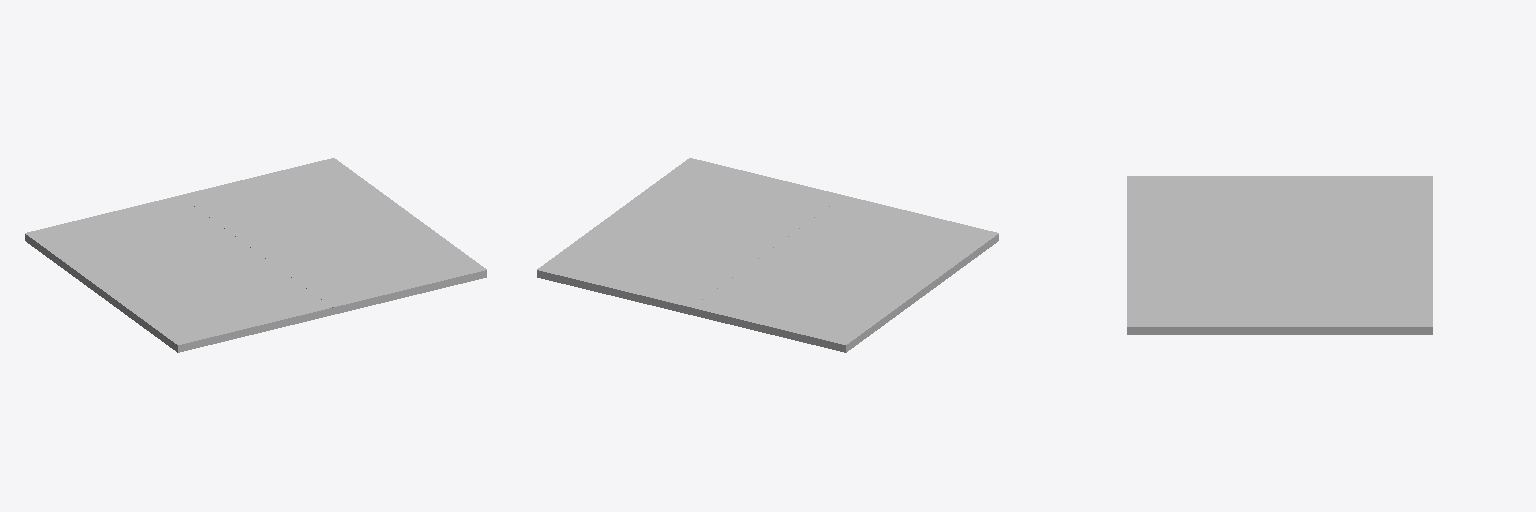
Rendered from Decke_geschlossen.obj.
The picture shows the model from 3 angles: view 1: azimuth 30°, elevation 25°; view 2: azimuth 150°, elevation 25°; view 3: azimuth 270°, elevation 25°; orthographic projection.
Parts seen in each view (by area): view 1: Mesh62 Component_2139 G_9_V3_Decke_geschlossen_Beleuchtung_dwg1 , Mesh26 Component_2113 G_9_V3_Decke_geschlossen_Beleuchtung_dwg1 , Mesh46 Component_2136 G_9_V3_Decke_geschlossen_Beleuchtung_dwg1 , Mesh10 Component_2110 G_9_V3_Decke_geschlossen_Beleuchtung_dwg1 ; view 2: Mesh62 Component_2139 G_9_V3_Decke_geschlossen_Beleuchtung_dwg1 , Mesh26 Component_2113 G_9_V3_Decke_geschlossen_Beleuchtung_dwg1 , Mesh46 Component_2136 G_9_V3_Decke_geschlossen_Beleuchtung_dwg1 , Mesh10 Component_2110 G_9_V3_Decke_geschlossen_Beleuchtung_dwg1 ; view 3: Mesh26 Component_2113 G_9_V3_Decke_geschlossen_Beleuchtung_dwg1 , Mesh62 Component_2139 G_9_V3_Decke_geschlossen_Beleuchtung_dwg1 , Mesh10 Component_2110 G_9_V3_Decke_geschlossen_Beleuchtung_dwg1 .
Part boxes in pixels (bbox=[...]): Mesh62 Component_2139 G_9_V3_Decke_geschlossen_Beleuchtung_dwg1 : bbox=[25, 196, 332, 346]; Mesh26 Component_2113 G_9_V3_Decke_geschlossen_Beleuchtung_dwg1 : bbox=[179, 158, 486, 308]; Mesh46 Component_2136 G_9_V3_Decke_geschlossen_Beleuchtung_dwg1 : bbox=[25, 236, 332, 352]; Mesh10 Component_2110 G_9_V3_Decke_geschlossen_Beleuchtung_dwg1 : bbox=[333, 272, 486, 314]; Mesh62 Component_2139 G_9_V3_Decke_geschlossen_Beleuchtung_dwg1 : bbox=[691, 196, 998, 346]; Mesh26 Component_2113 G_9_V3_Decke_geschlossen_Beleuchtung_dwg1 : bbox=[537, 158, 844, 308]; Mesh46 Component_2136 G_9_V3_Decke_geschlossen_Beleuchtung_dwg1 : bbox=[691, 236, 998, 352]; Mesh10 Component_2110 G_9_V3_Decke_geschlossen_Beleuchtung_dwg1 : bbox=[537, 272, 690, 314]; Mesh26 Component_2113 G_9_V3_Decke_geschlossen_Beleuchtung_dwg1 : bbox=[1127, 252, 1432, 328]; Mesh62 Component_2139 G_9_V3_Decke_geschlossen_Beleuchtung_dwg1 : bbox=[1127, 176, 1432, 251]; Mesh10 Component_2110 G_9_V3_Decke_geschlossen_Beleuchtung_dwg1 : bbox=[1127, 329, 1432, 334].
Size of the model in its own units: 189 by 5.21 by 162.